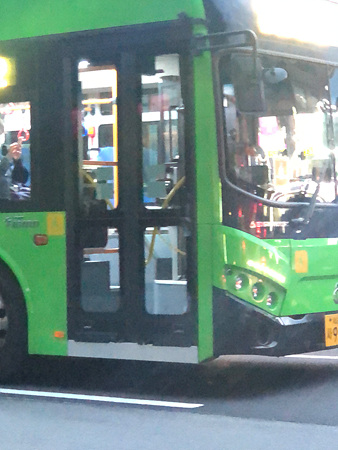entrance: (62, 35, 203, 345)
